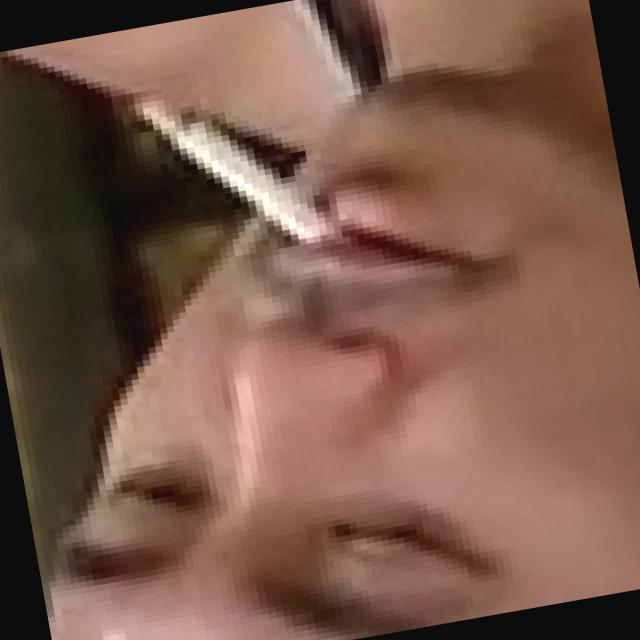smoke: (104, 46, 350, 287)
